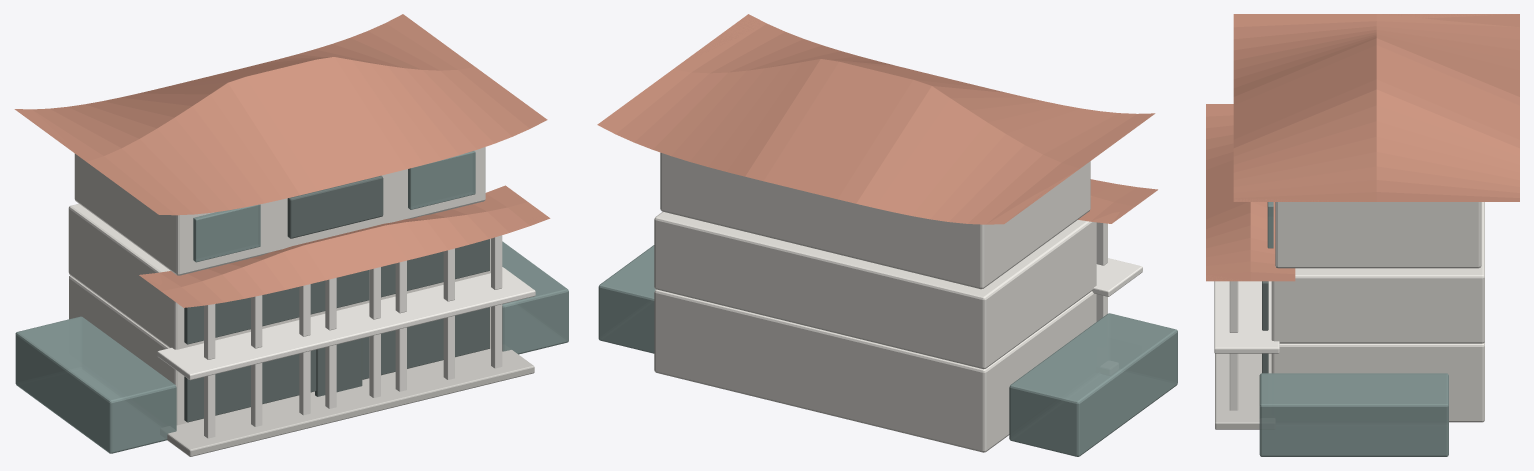
Rendered from film-art-center-massing.glb.
The picture shows the model from 3 angles, left to right: view 1: azimuth 30°, elevation 25°; view 2: azimuth 150°, elevation 25°; view 3: azimuth 270°, elevation 25°; orthographic projection. The views are drawn at different scales.
Visible parts, largest first — view 1: film-art-center-massing; view 2: film-art-center-massing; view 3: film-art-center-massing.
Boxes of the visible parts, x1=… form: film-art-center-massing: x1=14, y1=14, x2=568, y2=456; film-art-center-massing: x1=597, y1=14, x2=1177, y2=456; film-art-center-massing: x1=1206, y1=14, x2=1519, y2=456.
Bounding box in the file's own units: 22.91 × 13.7 × 13.69.
